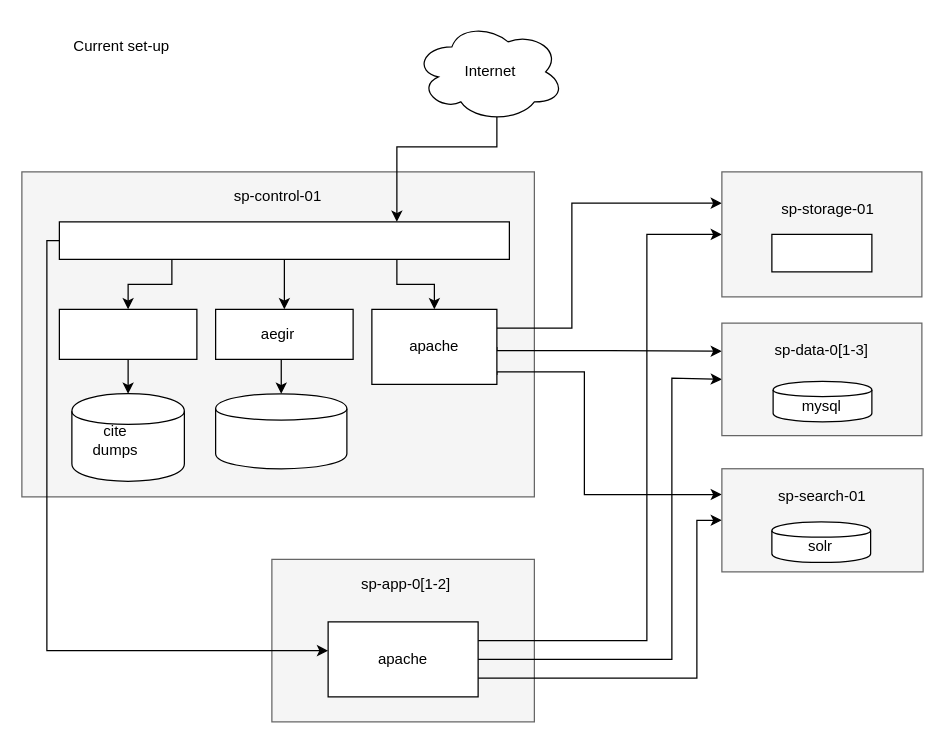
Image size: 945x744. Some labels were removed from this diagram. The shapes that lost their labels are listed below. From the top down, each one's box as (x1, y1, x2, y2) in pixels, then its label:
(58, 221, 509, 259): varnish
(771, 233, 872, 272): NFS
(58, 308, 197, 359): node JS
(214, 392, 347, 469): site configs
